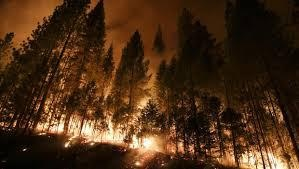fire: (36, 100, 154, 153)
